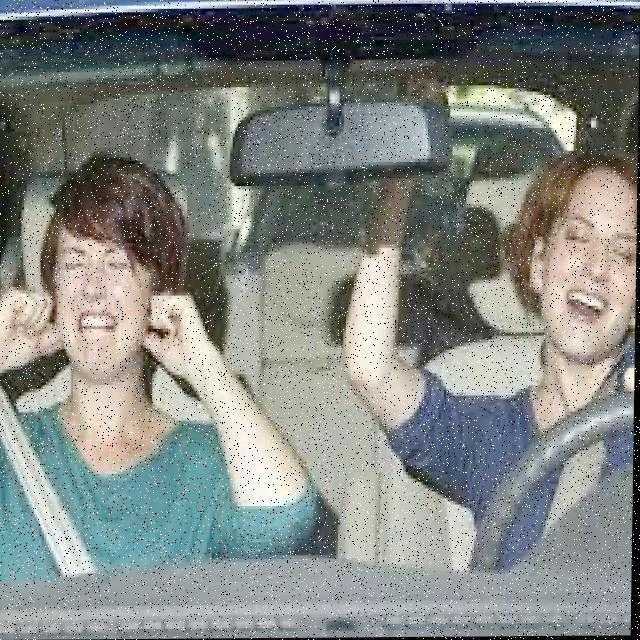seatbelt: (0, 393, 219, 587)
